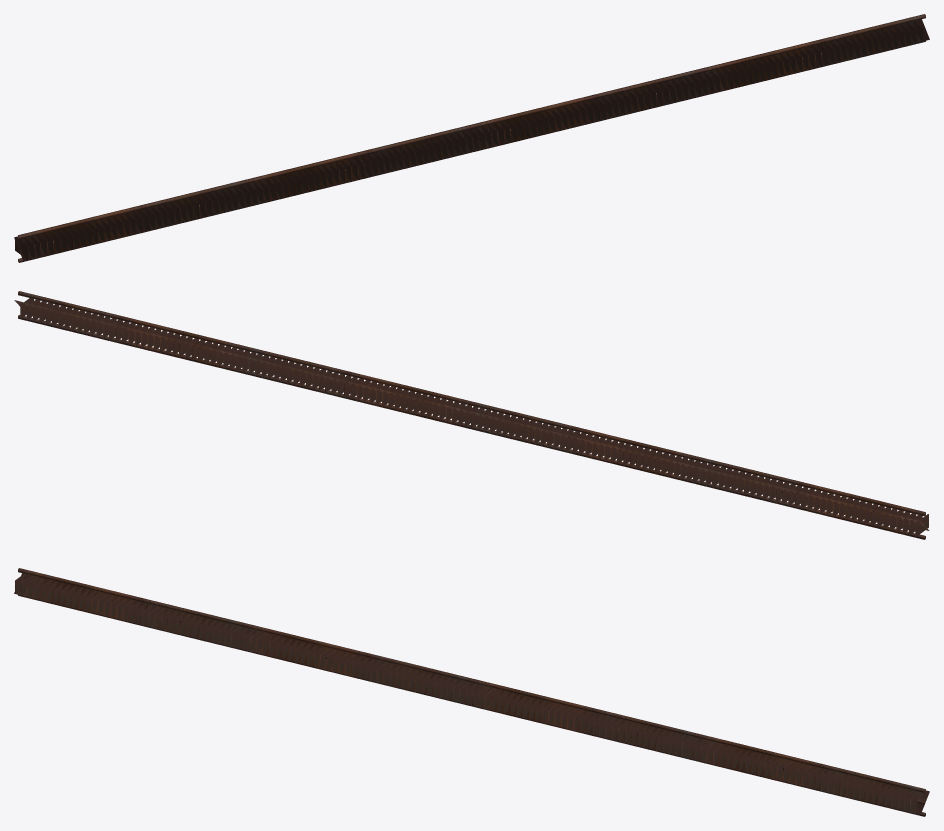
File: EST-ACO-007_lod1.glb
3 views of the same model, one above another, from view 1: azimuth 30°, elevation 25°; view 2: azimuth 150°, elevation 25°; view 3: azimuth 330°, elevation 25° (orthographic).
Visible parts, largest first — view 1: EST-ACO-007_barra; view 2: EST-ACO-007_barra; view 3: EST-ACO-007_barra.
Boxes of the visible parts, left/top/right/bottom form: EST-ACO-007_barra: left=14, top=14, right=929, bottom=262; EST-ACO-007_barra: left=14, top=291, right=929, bottom=539; EST-ACO-007_barra: left=14, top=568, right=929, bottom=816.
Bounding box in the file's own units: 1 × 0.0279 × 0.0243.
1 material, 1 textured.
